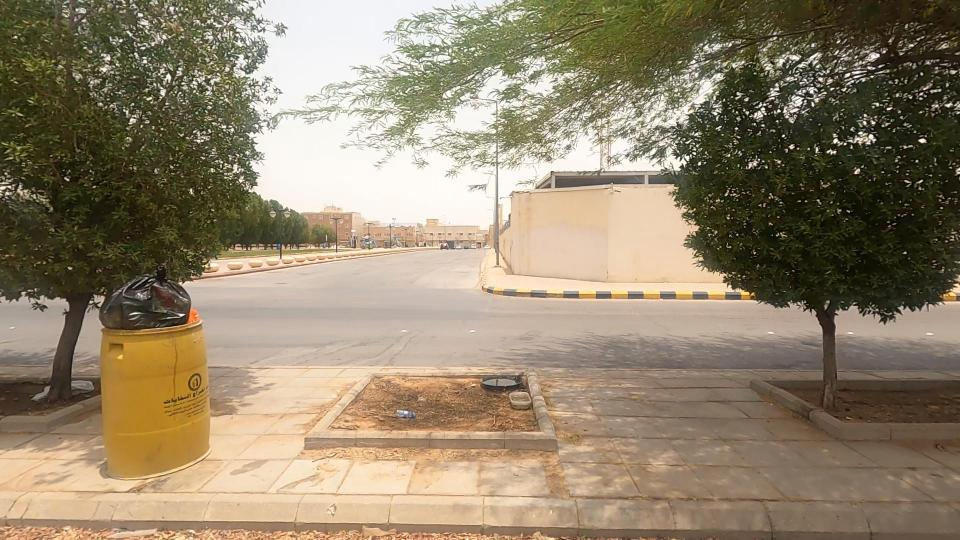GARBAGE: (41, 214, 254, 400), (431, 318, 568, 474), (336, 360, 469, 472)
